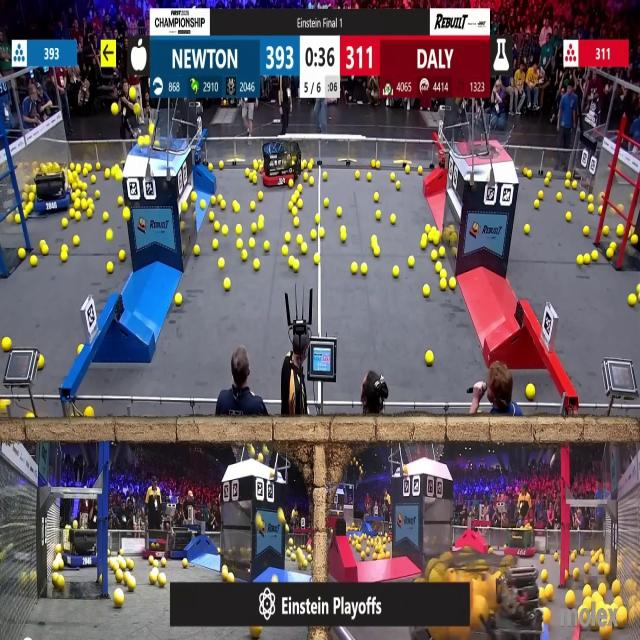ball_airborne: (255, 514, 263, 531), (130, 88, 137, 102), (142, 136, 150, 148), (110, 104, 118, 115), (278, 511, 284, 525), (134, 104, 140, 116), (150, 140, 158, 149), (148, 125, 154, 136), (72, 520, 78, 530), (250, 448, 255, 458), (265, 448, 270, 456), (258, 454, 262, 463)
ball_ground: (114, 590, 124, 608), (618, 611, 628, 629), (600, 626, 612, 640), (126, 575, 136, 590), (2, 338, 11, 353), (526, 384, 534, 400), (566, 592, 574, 608), (542, 610, 550, 626), (425, 351, 434, 365), (544, 586, 552, 601), (614, 583, 622, 597), (58, 575, 66, 589), (115, 569, 123, 582), (17, 248, 25, 260), (159, 574, 167, 586), (599, 585, 607, 597), (122, 208, 129, 221), (86, 409, 95, 419), (30, 255, 38, 266), (628, 294, 636, 305), (175, 292, 182, 304), (223, 278, 230, 290), (392, 267, 399, 279), (618, 224, 625, 236), (37, 356, 44, 368), (585, 586, 592, 598), (420, 240, 428, 250), (360, 265, 367, 276), (351, 264, 358, 275), (118, 250, 125, 261), (149, 572, 156, 583), (540, 570, 547, 581), (0, 399, 7, 410), (423, 284, 429, 296), (450, 278, 456, 290), (292, 262, 298, 274), (371, 236, 377, 248), (221, 565, 227, 577), (602, 225, 609, 235), (73, 236, 80, 246), (41, 245, 48, 255), (606, 249, 613, 259), (302, 244, 309, 254), (440, 248, 447, 258), (226, 572, 233, 582), (374, 247, 381, 257), (74, 200, 81, 210), (302, 560, 309, 570), (119, 561, 126, 571), (314, 253, 320, 264), (107, 263, 113, 274), (107, 231, 113, 242), (409, 256, 415, 267), (218, 257, 224, 268), (253, 261, 259, 272), (221, 224, 227, 235), (242, 250, 248, 261), (572, 568, 578, 579), (237, 224, 243, 234), (282, 245, 288, 255), (249, 239, 255, 249), (252, 222, 258, 232), (192, 245, 198, 255), (442, 280, 448, 290), (265, 242, 271, 252), (524, 224, 530, 234), (237, 240, 243, 250), (284, 234, 290, 244), (212, 240, 218, 250), (390, 214, 396, 224), (576, 254, 582, 264), (584, 225, 590, 235), (592, 250, 598, 260), (341, 233, 347, 243), (62, 252, 68, 262), (88, 208, 94, 218), (318, 230, 324, 240), (311, 231, 317, 241), (117, 197, 123, 207), (75, 211, 81, 221), (234, 202, 240, 212), (296, 235, 302, 245), (62, 218, 68, 228), (585, 254, 591, 264), (288, 256, 294, 266), (293, 217, 299, 227), (632, 236, 638, 246), (452, 247, 458, 257), (181, 202, 187, 212), (604, 564, 610, 574), (432, 236, 438, 246), (595, 565, 601, 575), (108, 559, 114, 569), (213, 222, 220, 230), (210, 198, 217, 206), (564, 180, 571, 188), (250, 202, 256, 211), (323, 199, 329, 208), (435, 264, 441, 273), (315, 214, 321, 223), (182, 559, 188, 568), (556, 191, 562, 200), (258, 220, 264, 229), (129, 561, 135, 570), (296, 201, 302, 210), (292, 207, 298, 216), (372, 194, 378, 203), (60, 561, 66, 570), (78, 345, 84, 354), (74, 189, 80, 198), (252, 162, 258, 171), (162, 558, 167, 568), (566, 212, 571, 222), (377, 210, 382, 220), (105, 170, 110, 180), (431, 250, 436, 260), (92, 175, 98, 183), (579, 191, 585, 199), (218, 162, 224, 170), (190, 192, 196, 200), (322, 173, 328, 181), (441, 272, 447, 280), (406, 165, 412, 173), (390, 173, 396, 181), (244, 169, 250, 177), (148, 557, 154, 565), (341, 224, 347, 232), (424, 224, 430, 232), (566, 172, 572, 180), (115, 173, 121, 181), (585, 564, 591, 572), (292, 192, 298, 200), (290, 554, 296, 562), (81, 182, 87, 190), (386, 552, 392, 560), (89, 200, 95, 208), (82, 168, 88, 176), (29, 192, 35, 200), (571, 180, 576, 189), (220, 201, 225, 210), (103, 212, 108, 221), (355, 171, 360, 180), (555, 553, 560, 562), (589, 193, 594, 202), (534, 200, 539, 209), (309, 163, 314, 172), (418, 168, 424, 175), (609, 243, 615, 250), (598, 207, 604, 214), (62, 245, 68, 252), (28, 414, 34, 421), (589, 205, 594, 213), (14, 215, 19, 223), (366, 173, 371, 181), (287, 203, 292, 211), (307, 180, 312, 188), (297, 183, 302, 191), (273, 574, 278, 582), (70, 208, 74, 218), (527, 170, 532, 178), (288, 180, 293, 188), (564, 569, 569, 577), (180, 222, 185, 230), (360, 553, 365, 561), (29, 203, 34, 211), (25, 211, 30, 219), (217, 192, 222, 200), (261, 216, 266, 224), (540, 555, 544, 564), (396, 181, 400, 190), (202, 201, 206, 210), (210, 212, 214, 221), (636, 284, 640, 293), (570, 555, 575, 562), (81, 190, 86, 197), (371, 554, 376, 561), (288, 538, 293, 545), (258, 191, 262, 199), (338, 208, 342, 216), (96, 190, 100, 198), (538, 190, 542, 198), (544, 178, 548, 186), (377, 162, 381, 170), (97, 164, 101, 172), (580, 550, 584, 558), (428, 234, 432, 242), (370, 161, 374, 169), (252, 176, 256, 183), (546, 172, 550, 179), (208, 165, 212, 172), (308, 555, 312, 562), (217, 547, 221, 553), (119, 551, 123, 557), (108, 550, 111, 557)
goal: (460, 118, 516, 158), (124, 118, 185, 153)
robot_blue: (34, 160, 68, 214), (60, 522, 100, 566), (169, 527, 198, 558), (0, 168, 13, 224)
robot_red: (262, 137, 304, 186), (508, 522, 538, 556), (142, 528, 171, 559)
